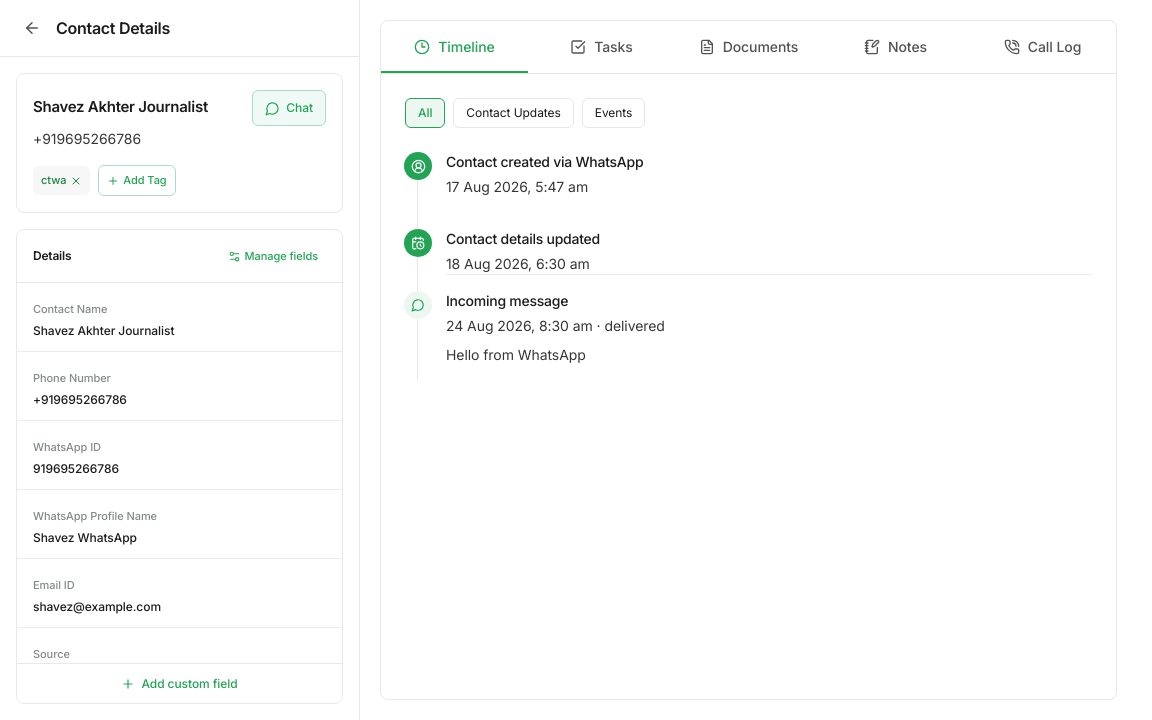
it: ContactDetails › adds a tag through the backend update endpoint
Check: the heading "Shavez Akhter Journalist" is shown, box [33,97,208,116]
Click the button "Add Tag": click(137, 180) [98,165,176,196]
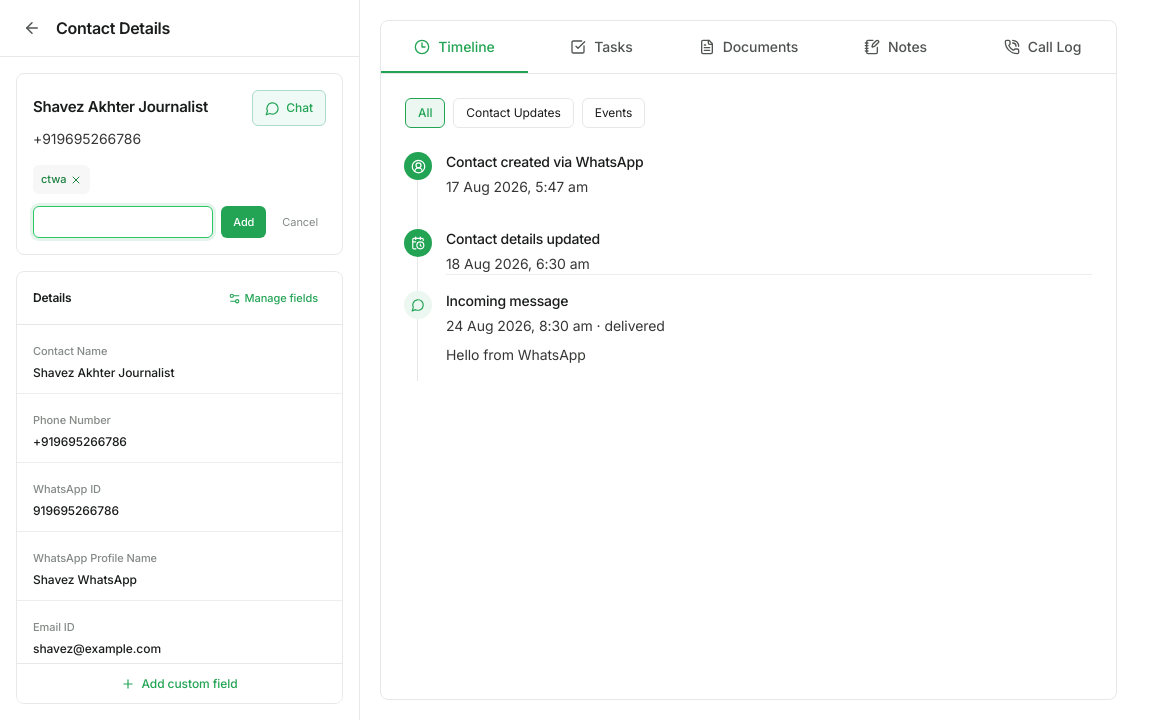
In the field named "New tag": (123, 222) [33,206,213,238], type "vip"
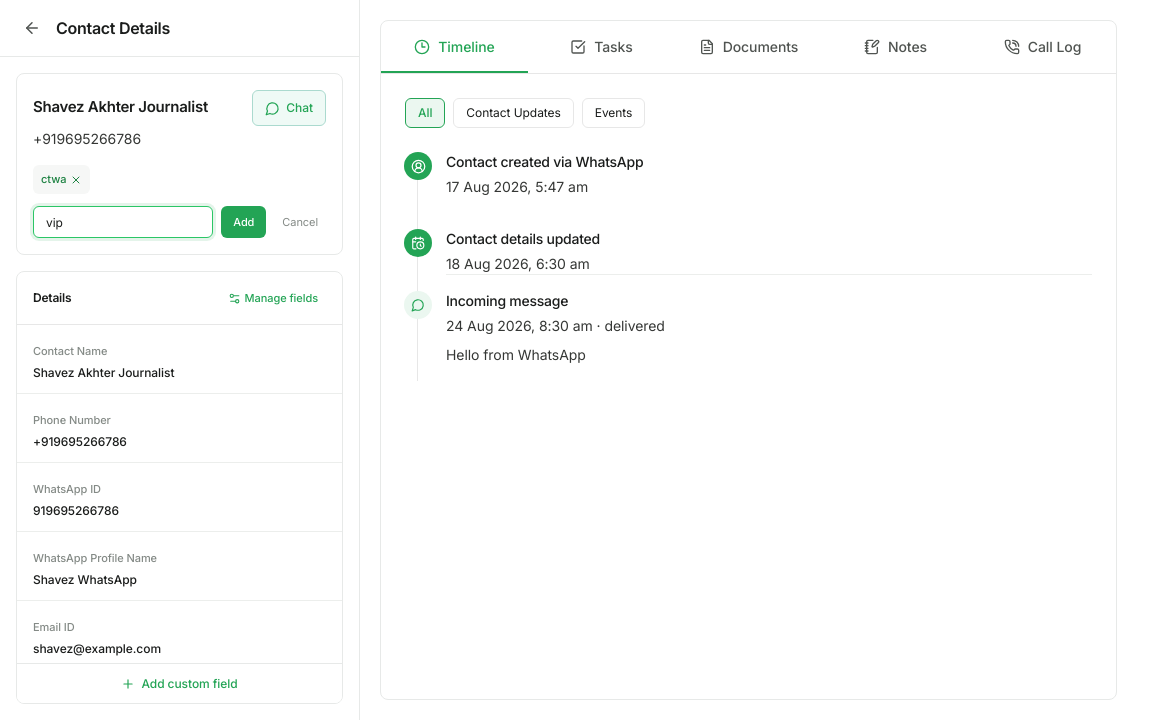
Click the button "Add": click(244, 222) [221,206,266,238]
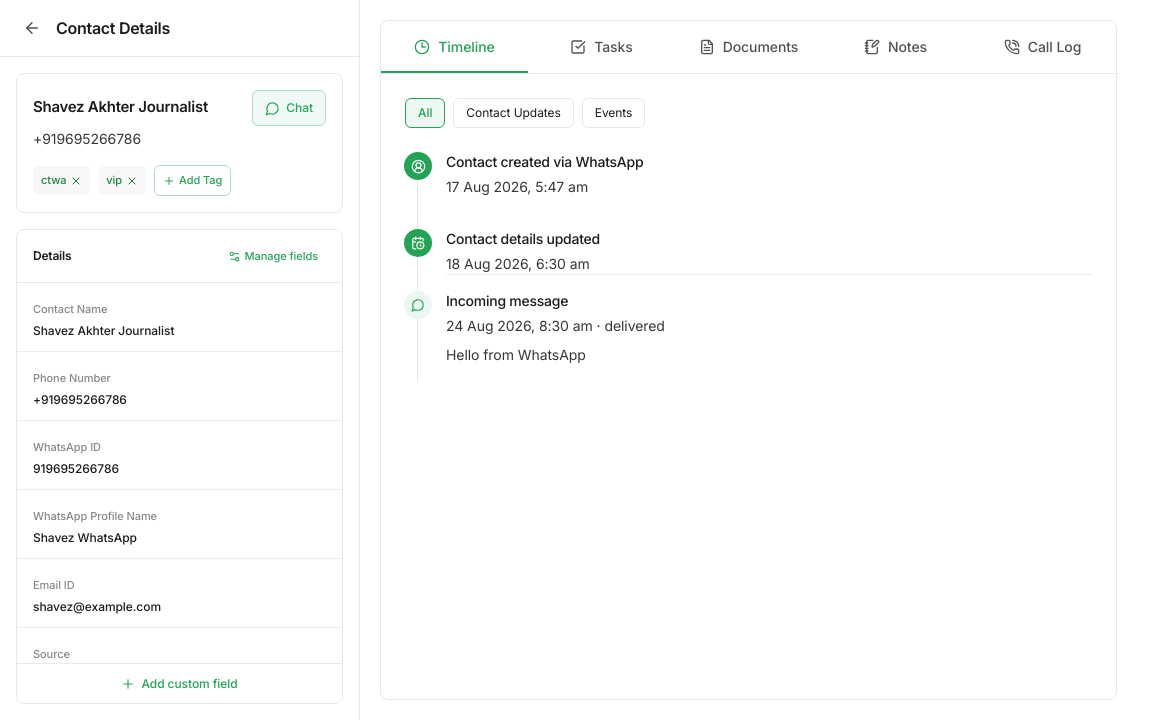
Check: the text "vip" is shown, box [98,166,146,195]
